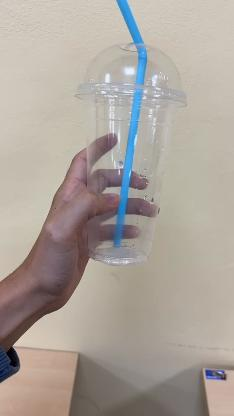Plastic Cup: (76, 43, 188, 263)
